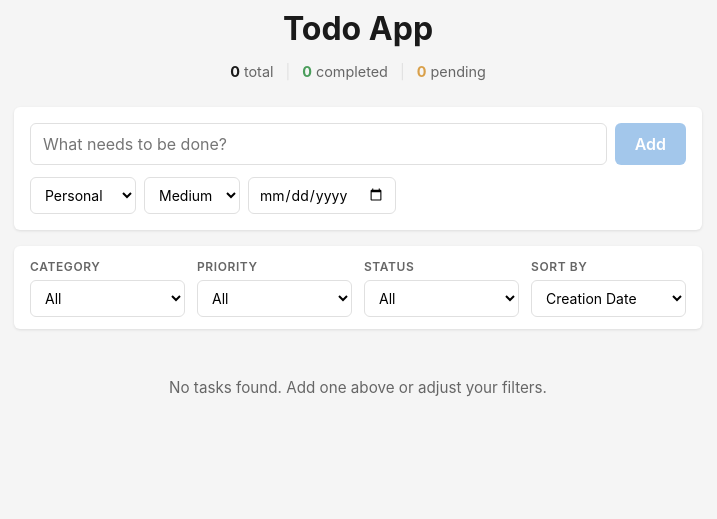
Test: App › can filter tasks by status
The image size is (717, 519).
// Add two tasks
Type "Task A" into the field with placeholder "What needs to be done?" at coordinates (318, 144), box [30,123,607,165]
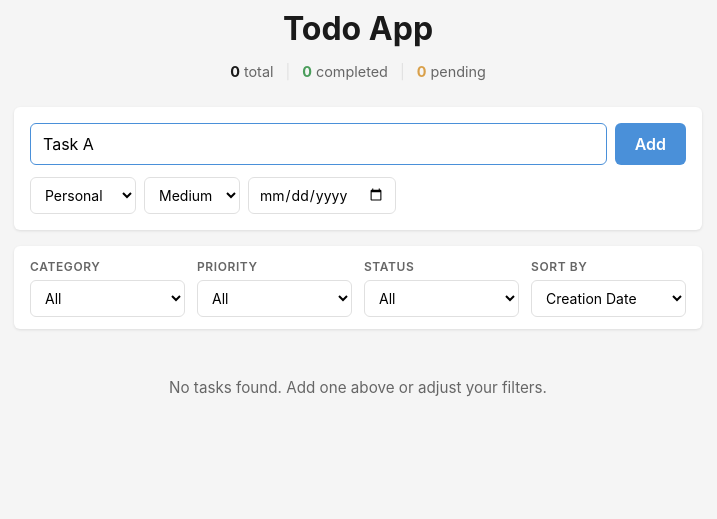
Click the button "Add" at coordinates (650, 144), box [615,123,686,165]
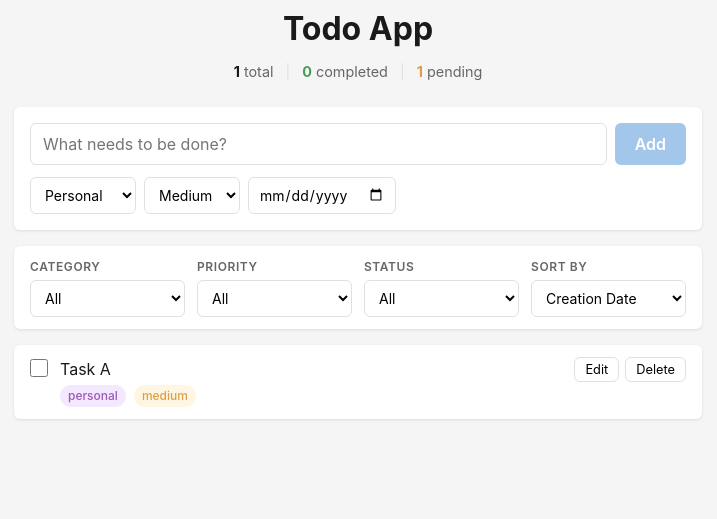
Type "Task B" into the field with placeholder "What needs to be done?" at coordinates (318, 144), box [30,123,607,165]
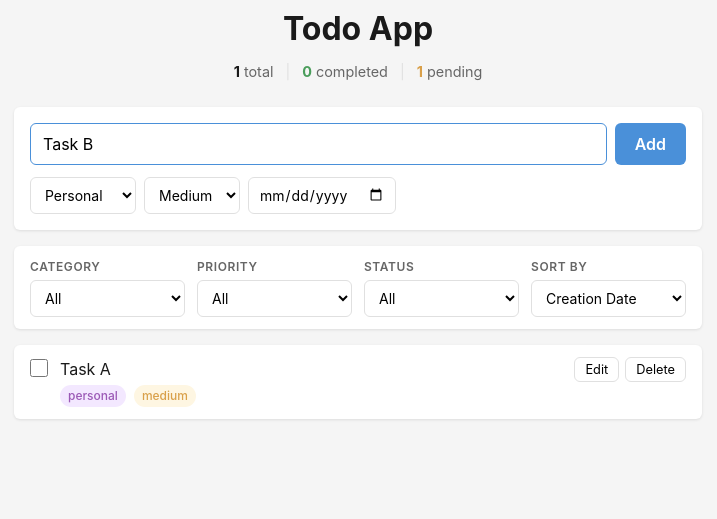
Click the button "Add" at coordinates (650, 144), box [615,123,686,165]
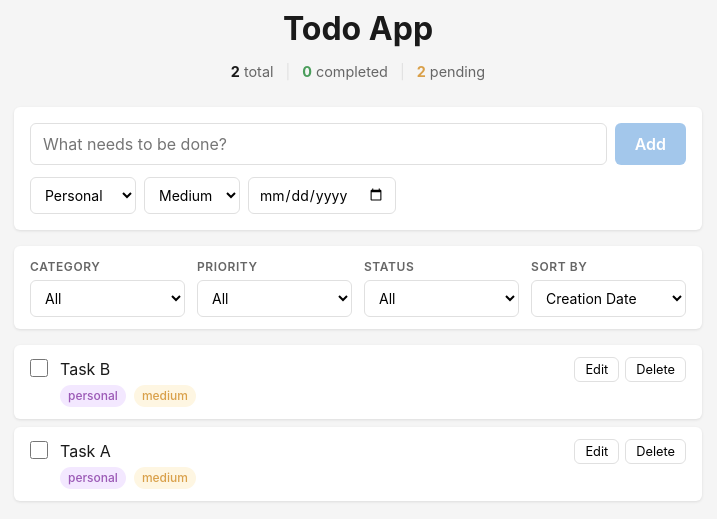
// Complete Task A (sorted by createdAt desc, so Task B is first, Task A is second)
Click the checkbox named "Mark \"Task A\"" at coordinates (39, 450), box [30,441,48,459]
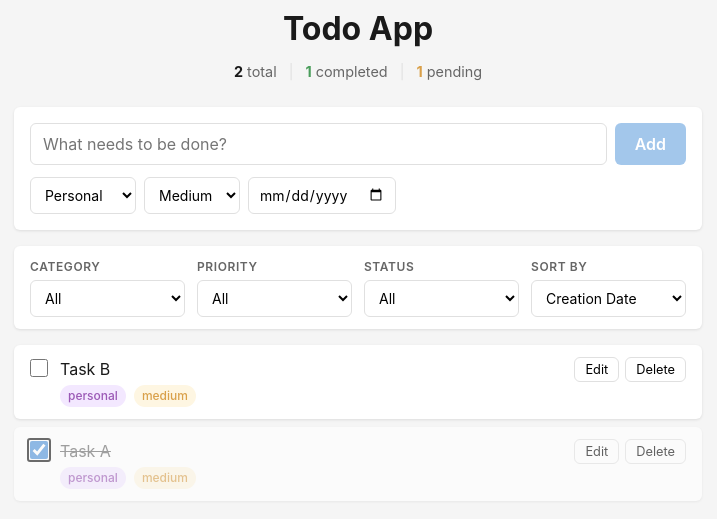
// Filter to pending only
Select "Pending" in the dropdown labelled "Status" at coordinates (442, 298), box [364,280,519,317]
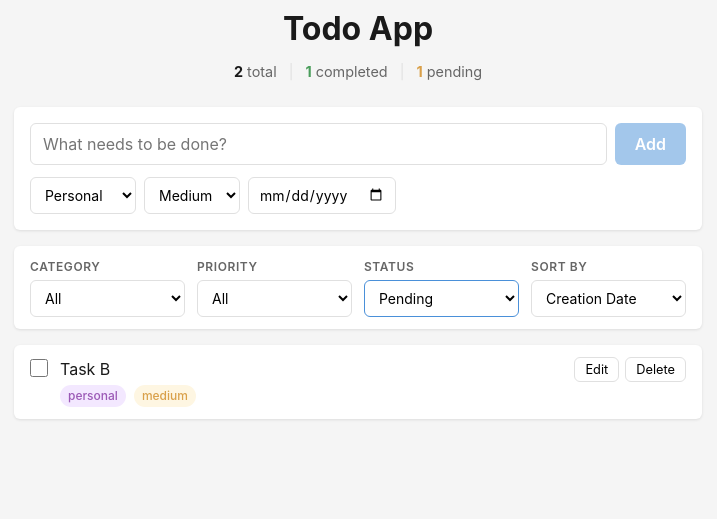
Now the text "Task B" is shown, box [60,359,110,379]
Now the text "Task A" is gone
